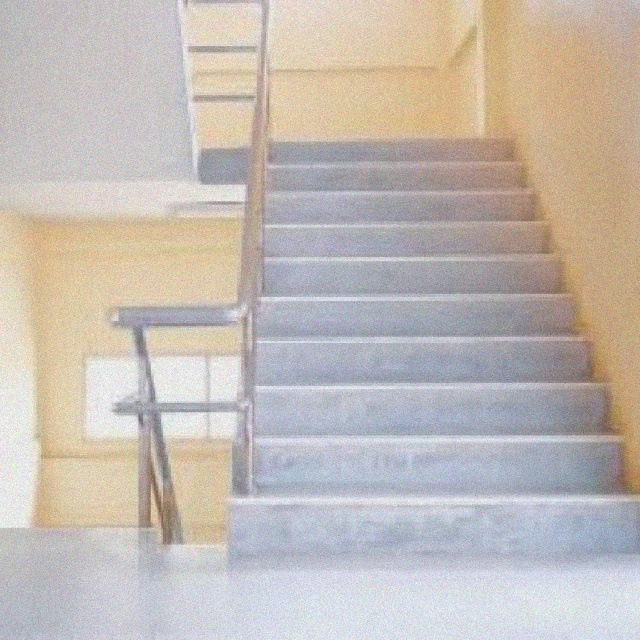stair: (261, 129, 595, 566)
